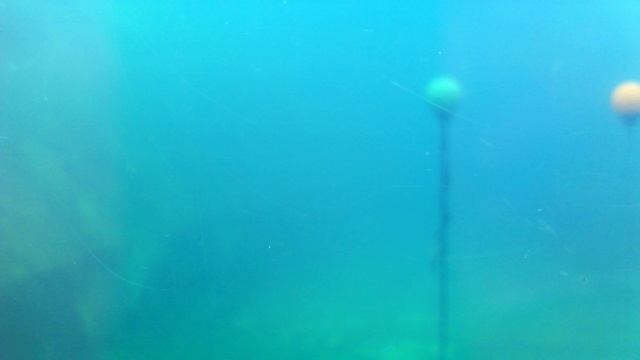buoy_green: (423, 74, 463, 119)
